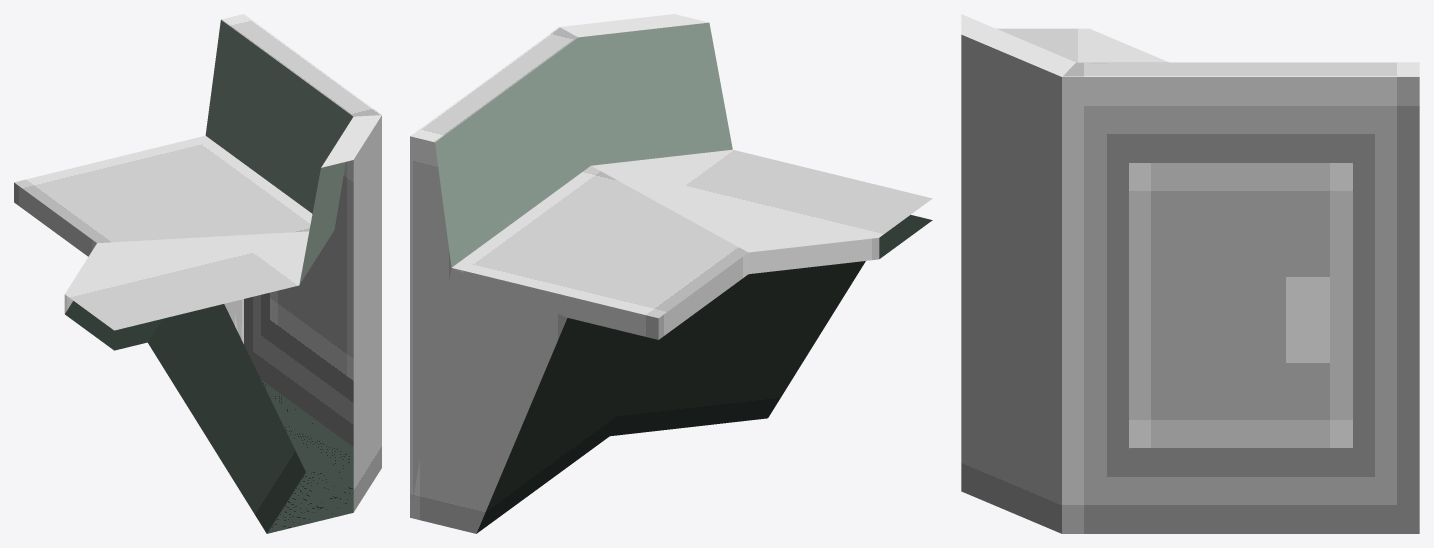
The model's file is desk_corner_inside_4_4_4.obj.
The picture shows the model from 3 angles, left to right: view 1: azimuth 30°, elevation 25°; view 2: azimuth 150°, elevation 25°; view 3: azimuth 270°, elevation 25°; orthographic projection. The views are drawn at different scales.
Size of the model in its own units: 1 by 1.1 by 1.
